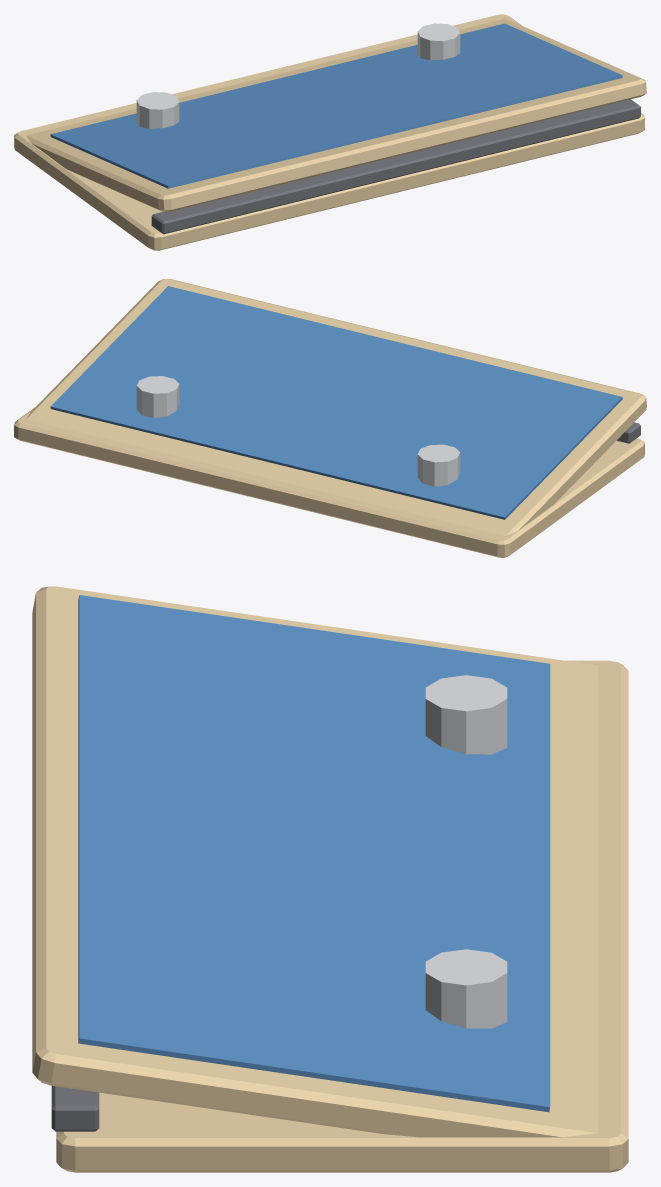
The model's file is community-sports-hall-and-changing-rooms-springboard-d0a8af24__35100.glb.
3 renders of one model, top to bottom at view 1: azimuth 30°, elevation 25°; view 2: azimuth 150°, elevation 25°; view 3: azimuth 270°, elevation 25°, orthographic. The views are drawn at different scales.
Parts seen in each view (by area): view 1: springboard; view 2: springboard; view 3: springboard.
Boxes of the visible parts, x1=… form: springboard: x1=14, y1=14, x2=646, y2=250; springboard: x1=14, y1=279, x2=646, y2=557; springboard: x1=32, y1=586, x2=628, y2=1172.
Bounding box in the file's own units: 1.2 × 0.1357 × 0.6251.
